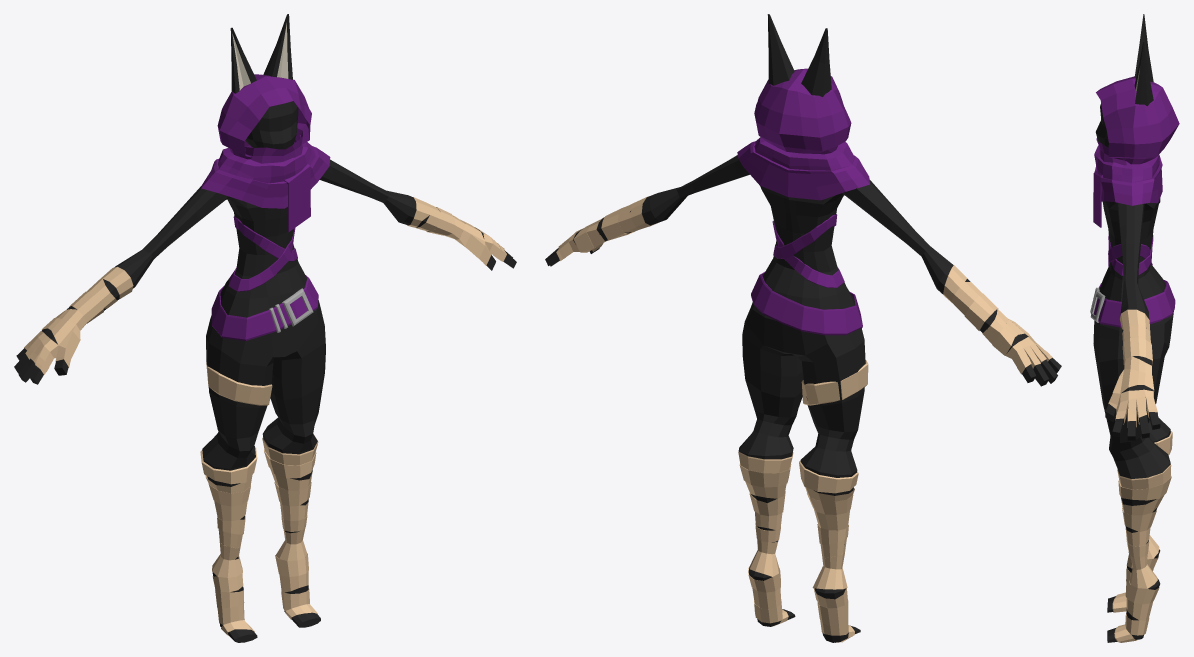
Rendered from Ranger_mod_v005.fbx.
3 renders of one model, left to right at view 1: azimuth 30°, elevation 25°; view 2: azimuth 150°, elevation 25°; view 3: azimuth 270°, elevation 25°, orthographic. The views are drawn at different scales.
Visible parts, largest first — view 1: Body, Verband_Beine, Kaputze; view 2: Body, Verband_Beine, Kaputze; view 3: Body, Kaputze, Verband_Beine.
Part boxes in pixels (<box>): Body: <box>14,14,516,642</box>; Verband_Beine: <box>24,197,506,635</box>; Kaputze: <box>201,74,330,340</box>; Body: <box>545,14,1061,642</box>; Verband_Beine: <box>556,196,1052,642</box>; Kaputze: <box>737,68,869,335</box>; Body: <box>1093,14,1173,642</box>; Kaputze: <box>1090,76,1179,327</box>; Verband_Beine: <box>1108,309,1172,642</box>.
Bounding box in the file's own units: 362 × 423 × 57.38.
